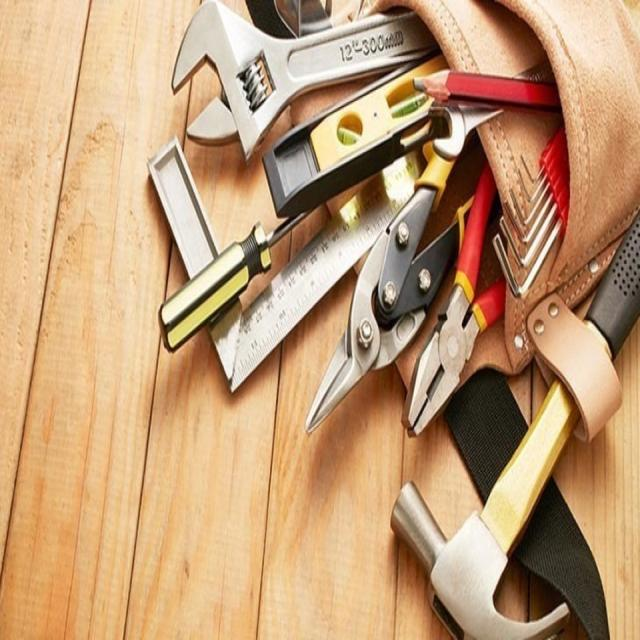Screwdriver: (159, 216, 305, 351)
